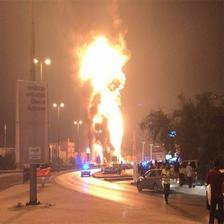fire: (73, 29, 139, 170)
